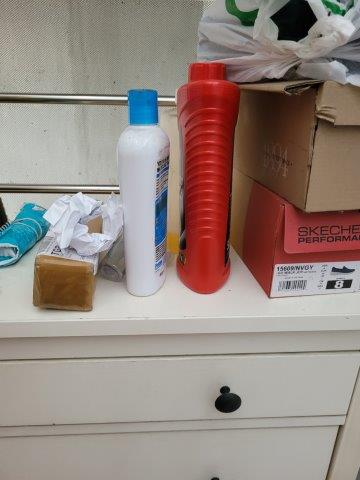kardus: (218, 78, 360, 211), (226, 175, 360, 297), (35, 252, 101, 318)
kertas: (53, 193, 124, 258)
plastik: (192, 1, 360, 80)
